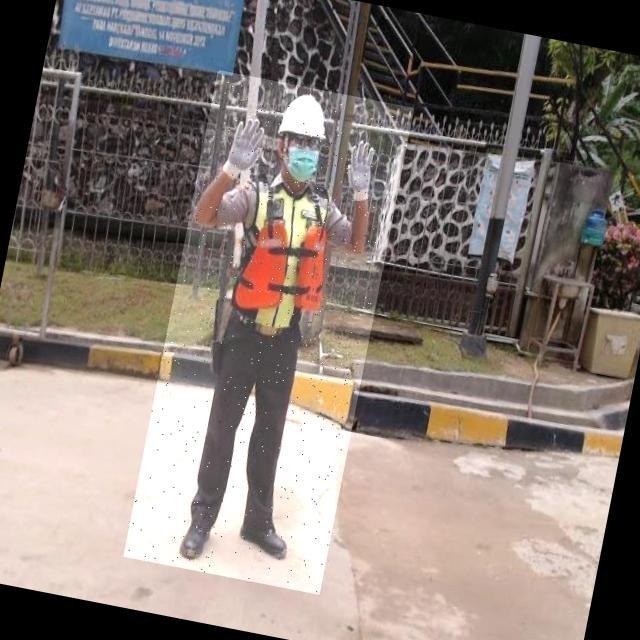Gloves: (214, 109, 274, 186), (339, 133, 384, 212)
Helmet: (278, 93, 334, 145)
Person: (164, 73, 401, 585)
Safety Boot: (235, 512, 297, 565), (178, 506, 219, 567)
Safety Vest: (224, 176, 345, 345)
